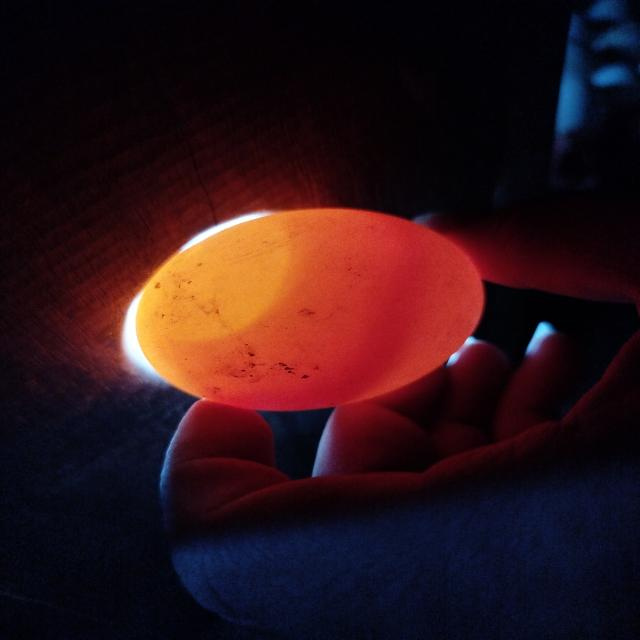Camara de Ar: (136, 217, 293, 340)
